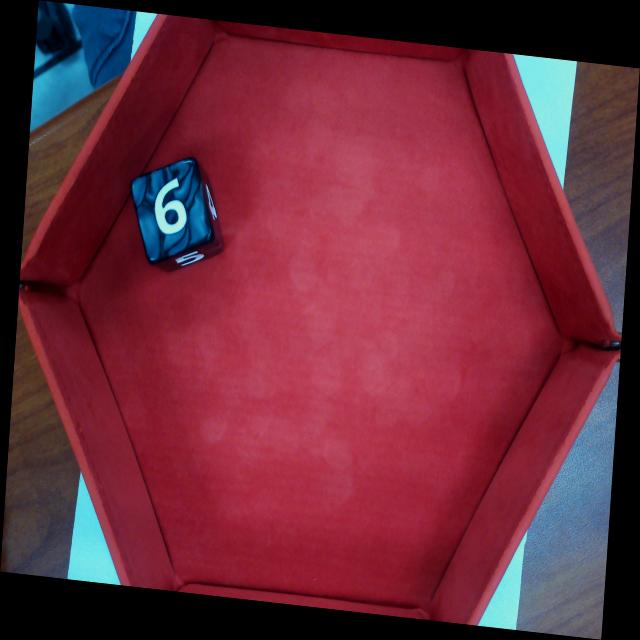dice: (129, 153, 218, 269)
